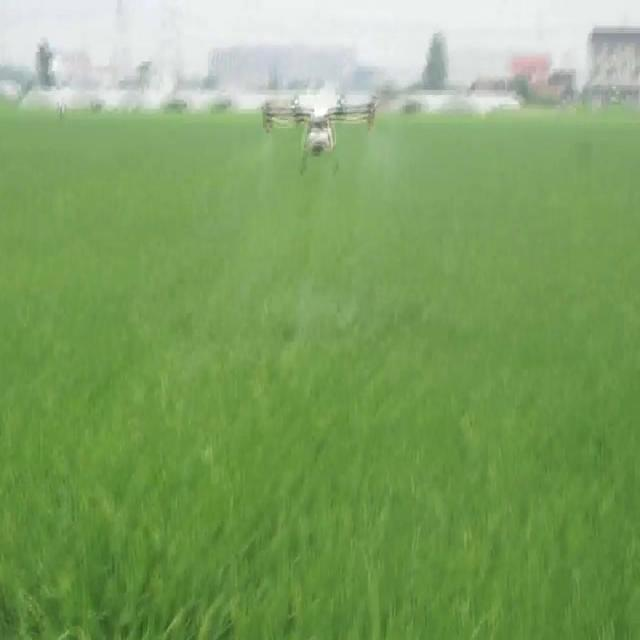UAV: (261, 96, 381, 175)
